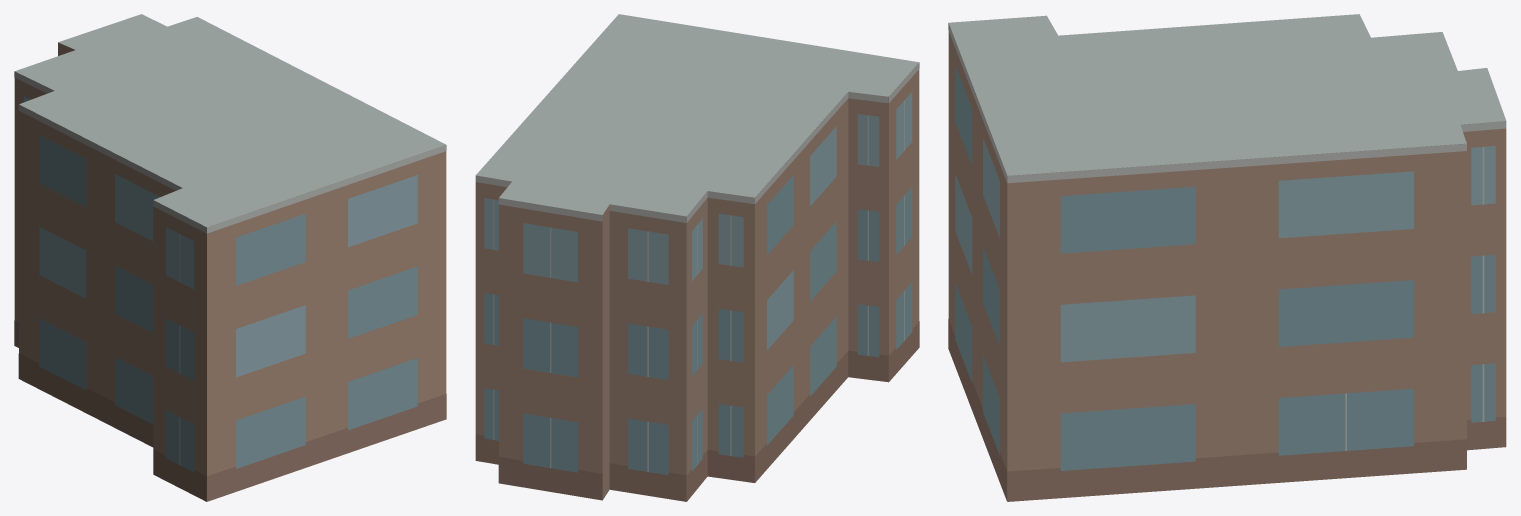
Rendered from survey-upis-32487684.glb.
3 renders of one model, left to right at view 1: azimuth 30°, elevation 25°; view 2: azimuth 150°, elevation 25°; view 3: azimuth 270°, elevation 25°, orthographic. The views are drawn at different scales.
Visible parts, largest first — view 1: survey-upis-32487684.tmp; view 2: survey-upis-32487684.tmp; view 3: survey-upis-32487684.tmp.
Part boxes in pixels (left/top/right/bottom): survey-upis-32487684.tmp: left=14, top=14, right=446, bottom=501; survey-upis-32487684.tmp: left=475, top=14, right=919, bottom=501; survey-upis-32487684.tmp: left=948, top=14, right=1506, bottom=501.
Bounding box in the file's own units: 11.35 × 10.65 × 16.53.
